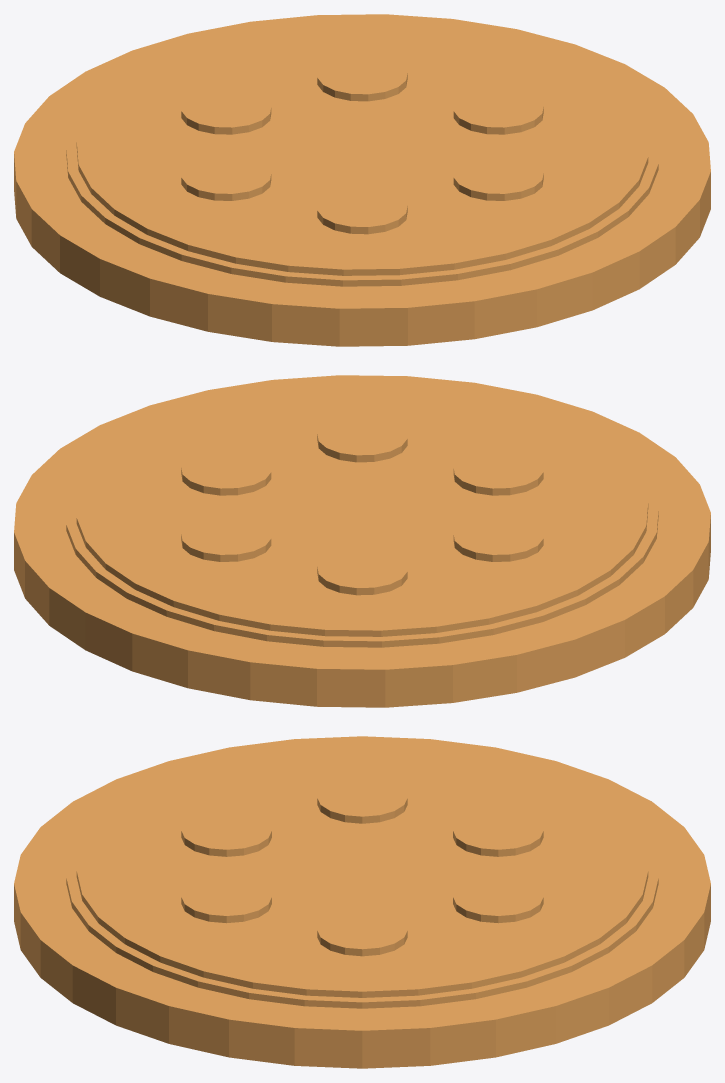
File: pizza.fbx
3 views of the same model, one above another, from view 1: azimuth 30°, elevation 25°; view 2: azimuth 150°, elevation 25°; view 3: azimuth 270°, elevation 25° (orthographic).
Parts seen in each view (by area): view 1: pizza; view 2: pizza; view 3: pizza.
Boxes of the visible parts, x1,y1,x2,y2 form: pizza: (14,14,710,346); pizza: (14,375,710,707); pizza: (14,736,710,1068).
Bounding box in the file's own units: 200 × 18.25 × 200.
